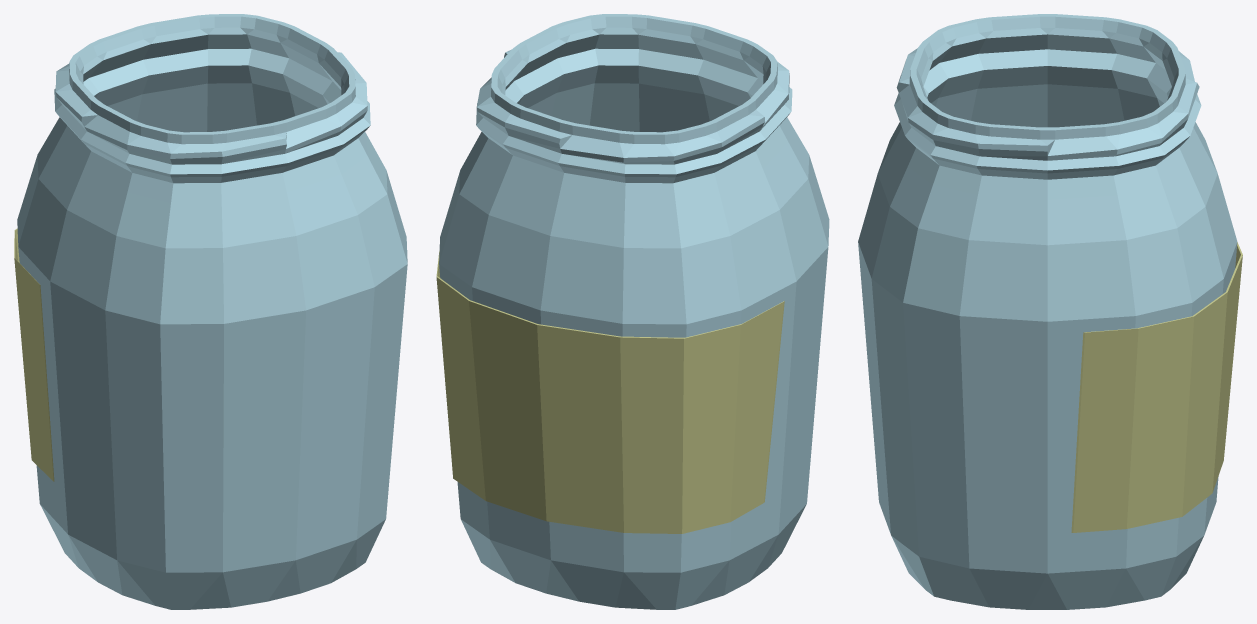
The model's file is bocal_cornichon.fbx.
3 views of the same model, side by side, from view 1: azimuth 30°, elevation 25°; view 2: azimuth 150°, elevation 25°; view 3: azimuth 270°, elevation 25° (orthographic).
Visible parts, largest first — view 1: bocal, etiquette; view 2: bocal, etiquette; view 3: bocal, etiquette.
Part boxes in pixels (left/top/right/bottom): bocal: left=17, top=14, right=407, bottom=609; etiquette: left=14, top=228, right=54, bottom=481; bocal: left=439, top=14, right=829, bottom=609; etiquette: left=436, top=251, right=784, bottom=533; bocal: left=858, top=14, right=1237, bottom=609; etiquette: left=1071, top=242, right=1242, bottom=532.
Bounding box in the file's own units: 371 × 514 × 376.
